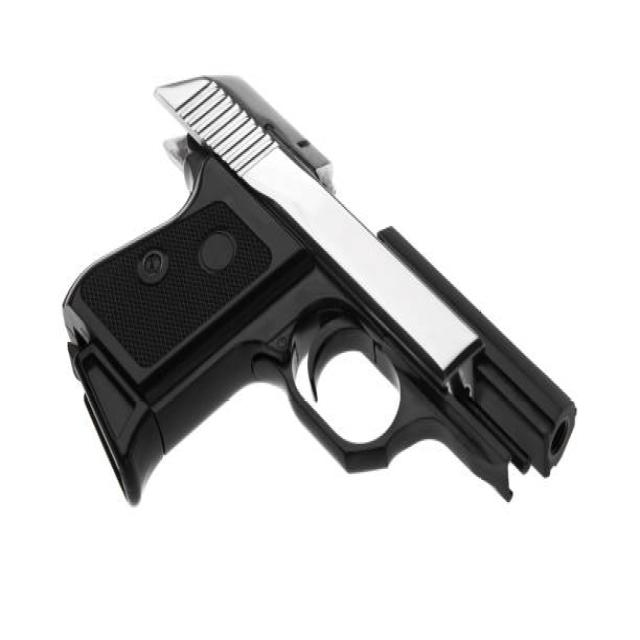pistol: (57, 65, 583, 522)
